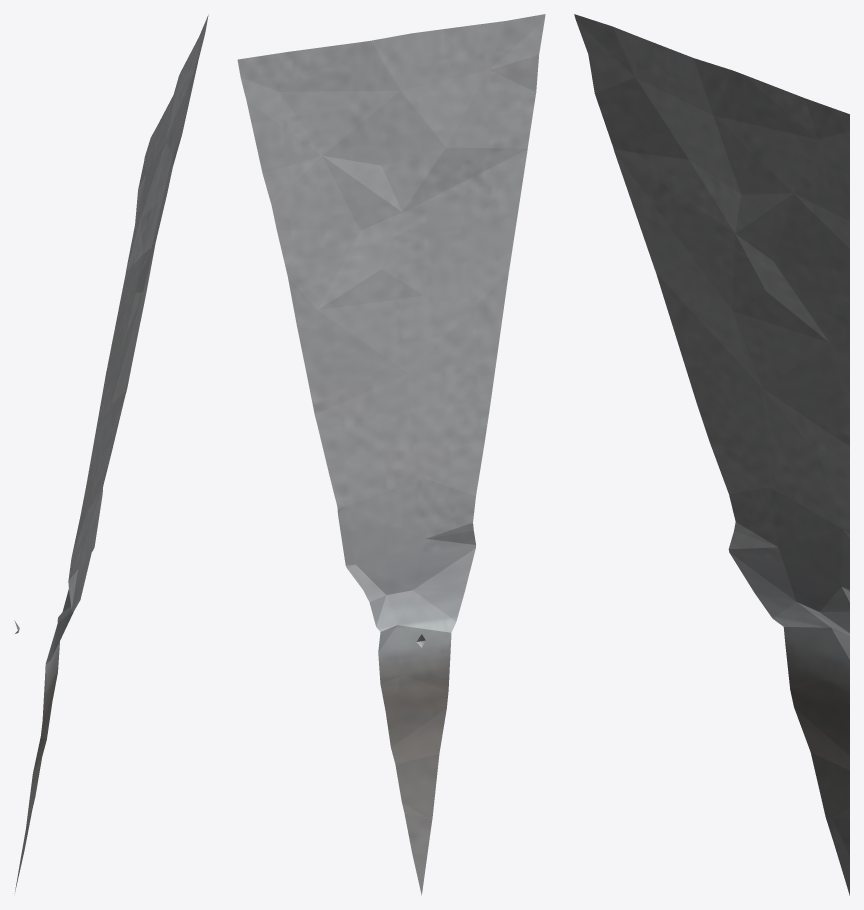
3 renders of one model, left to right at view 1: azimuth 30°, elevation 25°; view 2: azimuth 150°, elevation 25°; view 3: azimuth 270°, elevation 25°, orthographic. The views are drawn at different scales.
Bounding box in the file's own units: 0.1519 × 0.6232 × 0.1766.
1 material, 1 textured.
